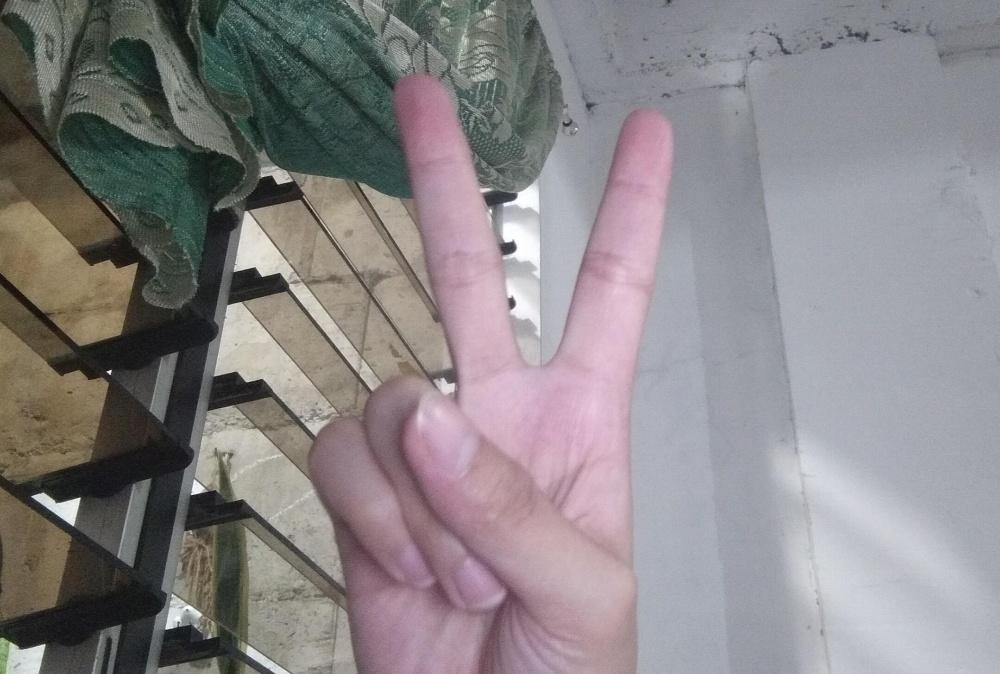v: (307, 71, 676, 673)
